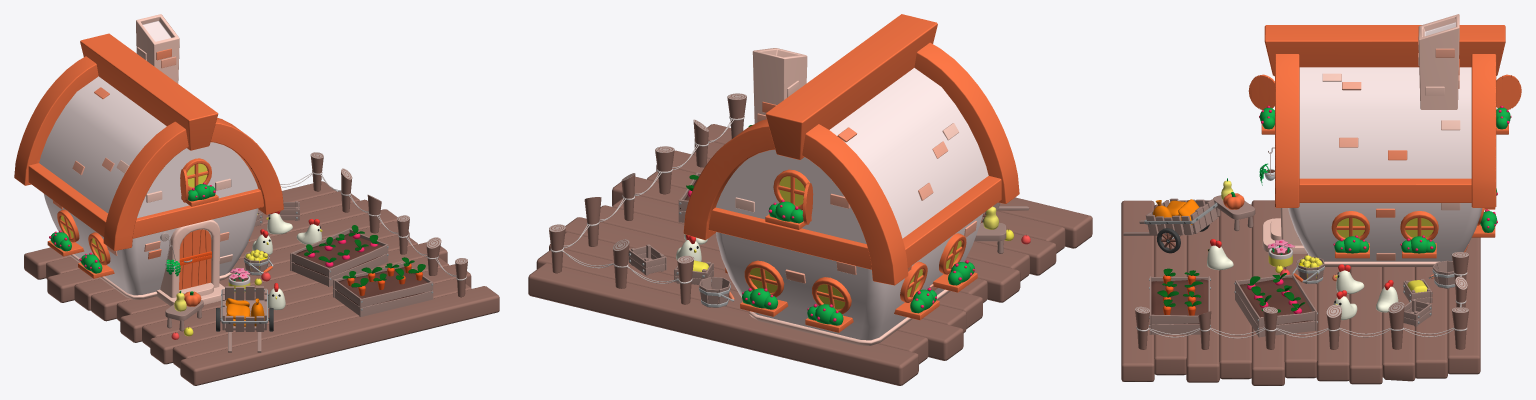
Rendered from Farm_Island_1.glb.
3 views of the same model, side by side, from view 1: azimuth 30°, elevation 25°; view 2: azimuth 150°, elevation 25°; view 3: azimuth 270°, elevation 25° (orthographic). The views are drawn at different scales.
Parts seen in each view (by area): view 1: Farm_1_House_1, Farm_1_Platform_1, Farm_1_Garden_1, Farm_1_Garden_2, Farm_1_Fence_1, Farm_1_Cart_1, Farm_1_Bucket_with_apples_1, Farm_1_Bench_1, Farm_1_Chicken_2, Farm_1_Chicken_3; view 2: Farm_1_House_1, Farm_1_Platform_1, Farm_1_Fence_1, Farm_1_Bucket_1, Farm_1_Box_1, Farm_1_Bench_1, Farm_1_Full_Box_1; view 3: Farm_1_House_1, Farm_1_Platform_1, Farm_1_Fence_1, Farm_1_Garden_2, Farm_1_Garden_1, Farm_1_Cart_1, Farm_1_Bucket_with_apples_1, Farm_1_Bench_1, Farm_1_Plant_1, Farm_1_Box_1, Farm_1_Full_Box_1, Farm_1_Bucket_1 (+4 smaller).
Part boxes in pixels (box(x1,y1,x2,y2)): Farm_1_House_1: box(14, 14, 283, 306); Farm_1_Platform_1: box(24, 181, 499, 385); Farm_1_Garden_1: box(333, 262, 433, 316); Farm_1_Garden_2: box(290, 228, 388, 286); Farm_1_Fence_1: box(280, 152, 467, 297); Farm_1_Cart_1: box(216, 285, 273, 352); Farm_1_Bucket_with_apples_1: box(244, 249, 273, 275); Farm_1_Bench_1: box(165, 300, 203, 331); Farm_1_Chicken_2: box(296, 219, 322, 244); Farm_1_Chicken_3: box(266, 211, 292, 234); Farm_1_House_1: box(683, 14, 1019, 345); Farm_1_Platform_1: box(528, 124, 1092, 385); Farm_1_Fence_1: box(549, 93, 746, 304); Farm_1_Bucket_1: box(699, 277, 734, 307); Farm_1_Box_1: box(628, 244, 666, 275); Farm_1_Bench_1: box(974, 222, 1006, 253); Farm_1_Full_Box_1: box(674, 260, 713, 284); Farm_1_House_1: box(1248, 14, 1521, 266); Farm_1_Platform_1: box(1121, 200, 1480, 385); Farm_1_Fence_1: box(1135, 252, 1468, 349); Farm_1_Garden_2: box(1234, 274, 1317, 337); Farm_1_Garden_1: box(1149, 276, 1210, 334); Farm_1_Cart_1: box(1123, 198, 1217, 253); Farm_1_Bucket_with_apples_1: box(1292, 255, 1324, 284); Farm_1_Bench_1: box(1213, 195, 1255, 231); Farm_1_Plant_1: box(1267, 239, 1294, 267); Farm_1_Box_1: box(1403, 299, 1431, 326); Farm_1_Full_Box_1: box(1403, 279, 1432, 303); Farm_1_Bucket_1: box(1428, 260, 1455, 289).
Size of the model in its own units: 11.37 by 7.69 by 10.9.
44 materials, 44 textured.
